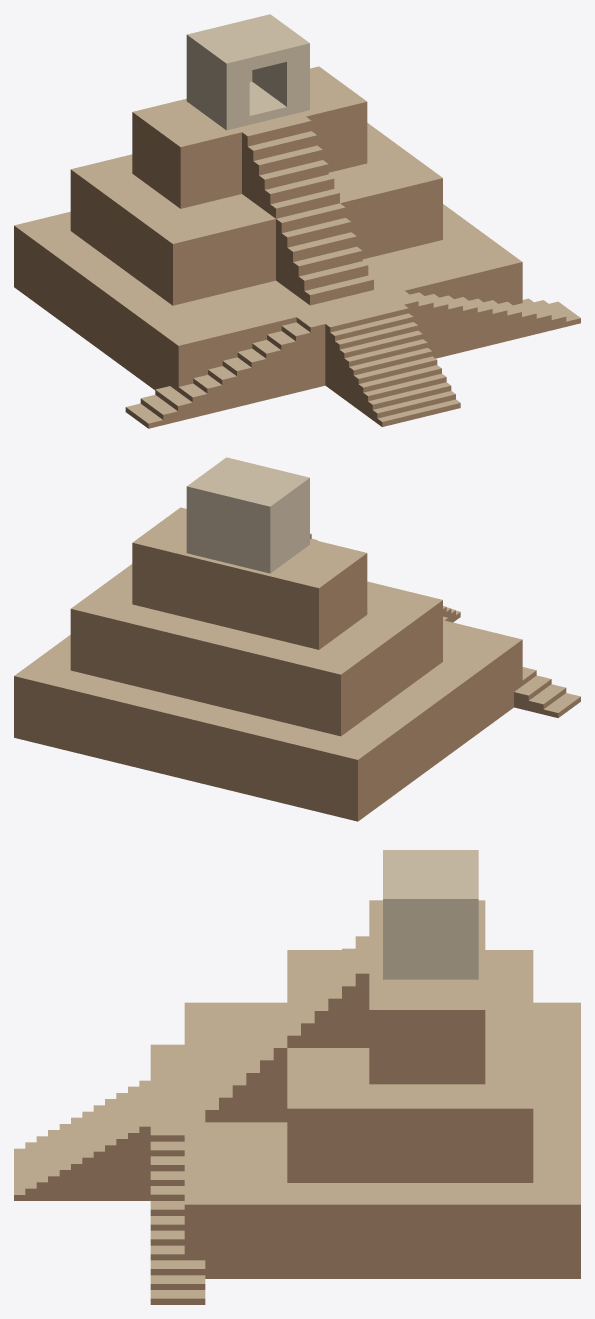
3 renders of one model, top to bottom at view 1: azimuth 30°, elevation 25°; view 2: azimuth 150°, elevation 25°; view 3: azimuth 270°, elevation 25°, orthographic. The views are drawn at different scales.
Visible parts, largest first — view 1: WholeRetreatingTerracesThreeApproachesAndUpperFlight, WholeUpperThickShrineAndOpenDoorChamber; view 2: WholeRetreatingTerracesThreeApproachesAndUpperFlight, WholeUpperThickShrineAndOpenDoorChamber; view 3: WholeRetreatingTerracesThreeApproachesAndUpperFlight, WholeUpperThickShrineAndOpenDoorChamber.
Boxes of the visible parts, bbox=[...] form: WholeRetreatingTerracesThreeApproachesAndUpperFlight: bbox=[14, 66, 580, 428]; WholeUpperThickShrineAndOpenDoorChamber: bbox=[186, 14, 309, 130]; WholeRetreatingTerracesThreeApproachesAndUpperFlight: bbox=[14, 507, 580, 821]; WholeUpperThickShrineAndOpenDoorChamber: bbox=[186, 457, 309, 573]; WholeRetreatingTerracesThreeApproachesAndUpperFlight: bbox=[14, 900, 580, 1304]; WholeUpperThickShrineAndOpenDoorChamber: bbox=[383, 850, 478, 979].
Bounding box in the file's own units: 8.8 × 4.9 × 8.3.
